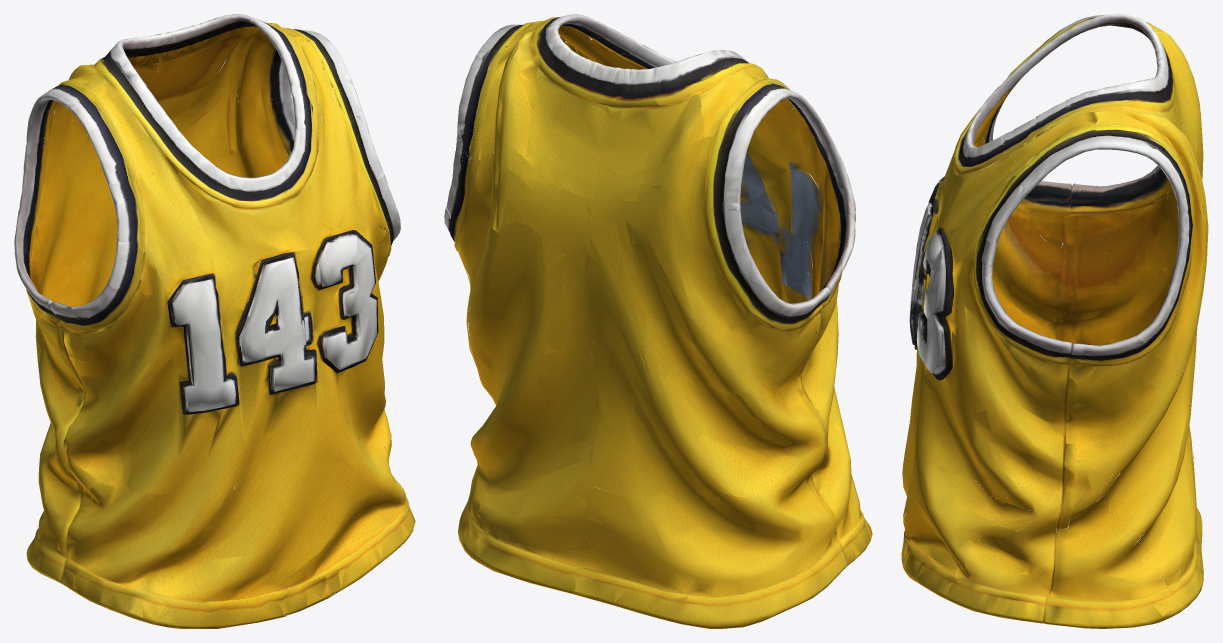
The model's file is yellow-143-jersey.glb.
The picture shows the model from 3 angles, left to right: view 1: azimuth 30°, elevation 25°; view 2: azimuth 150°, elevation 25°; view 3: azimuth 270°, elevation 25°; orthographic projection. The views are drawn at different scales.
Parts seen in each view (by area): view 1: ChogTrait_yellow-143-jersey; view 2: ChogTrait_yellow-143-jersey; view 3: ChogTrait_yellow-143-jersey.
Boxes of the visible parts, bbox=[...] form: ChogTrait_yellow-143-jersey: bbox=[14, 14, 415, 628]; ChogTrait_yellow-143-jersey: bbox=[444, 14, 872, 628]; ChogTrait_yellow-143-jersey: bbox=[901, 14, 1208, 628].
Size of the model in its own units: 0.6775 by 0.9806 by 0.5295.
1 material, 1 textured.
